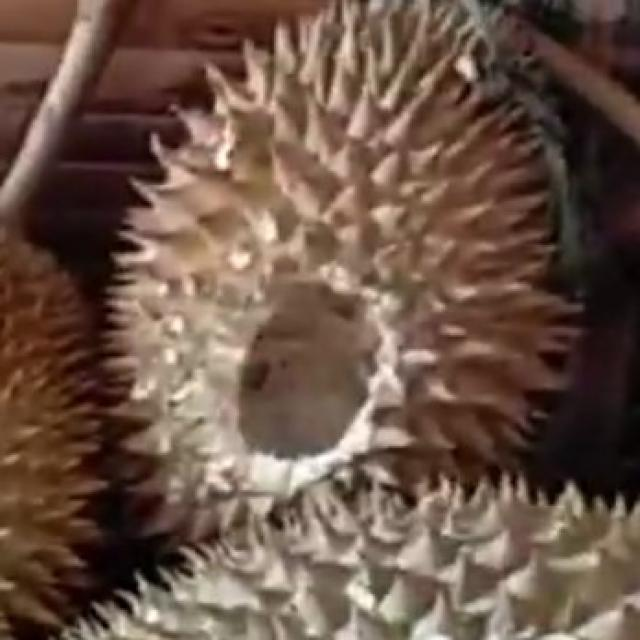defective: (102, 0, 594, 578)
